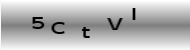5: (30, 15, 45, 30)
C: (49, 21, 66, 35)
V: (106, 16, 123, 32)
l: (131, 7, 137, 22)
t: (80, 25, 91, 39)
